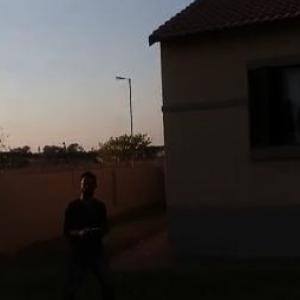follow: (58, 164, 127, 299)
